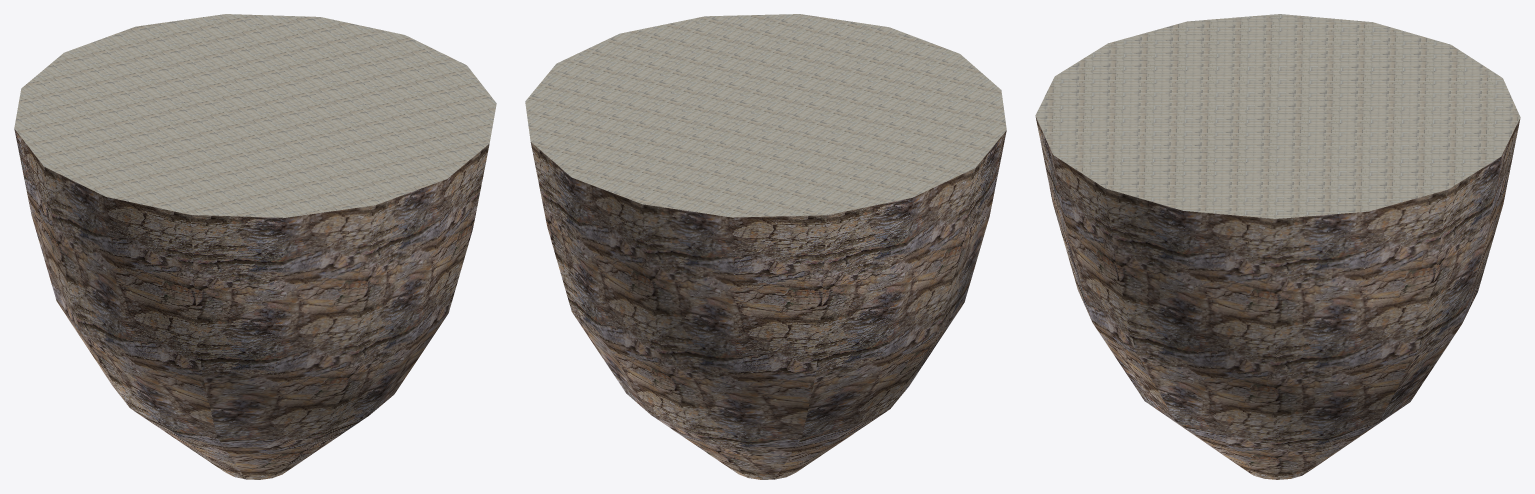
Rendered from hold.FBX.
The picture shows the model from 3 angles, left to right: view 1: azimuth 30°, elevation 25°; view 2: azimuth 150°, elevation 25°; view 3: azimuth 270°, elevation 25°; orthographic projection.
Visible parts, largest first — view 1: Cone001; view 2: Cone001; view 3: Cone001.
Part boxes in pixels (x1,y1,x2,y2): Cone001: [14, 14, 496, 479]; Cone001: [525, 14, 1006, 479]; Cone001: [1035, 14, 1520, 479].
Bounding box in the file's own units: 129146 × 102518 × 129146.
2 materials, 2 textured.
